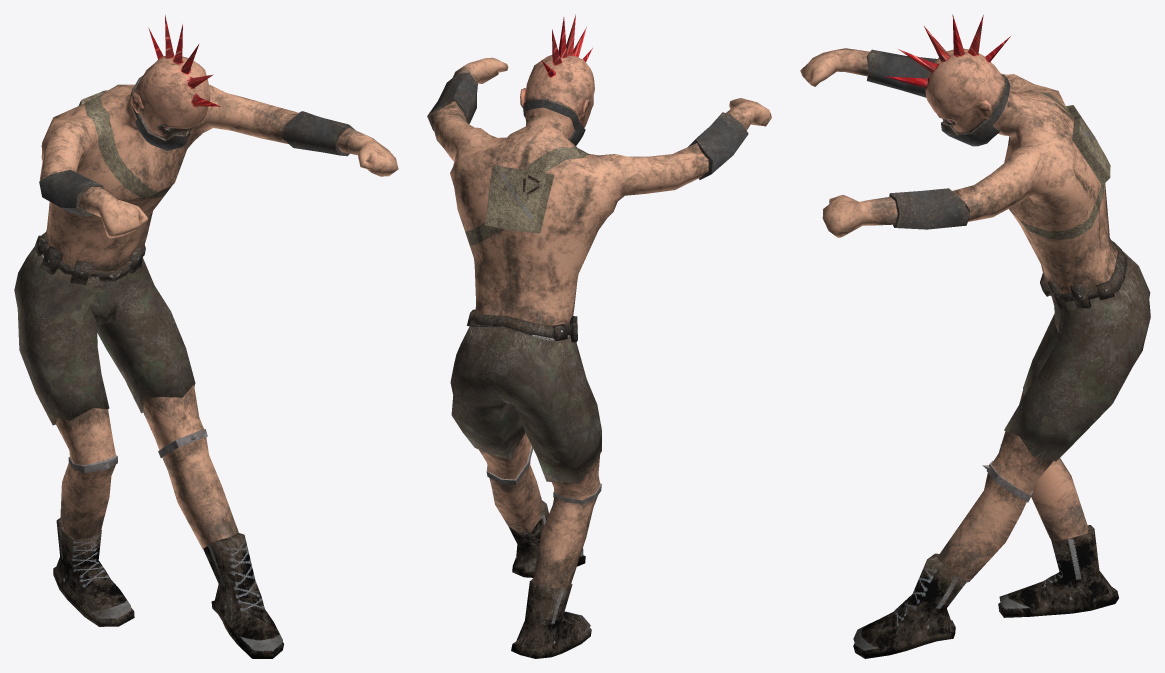
File: Anim_ataque_d3_npc2.0041.obj
3 views of the same model, side by side, from view 1: azimuth 30°, elevation 25°; view 2: azimuth 150°, elevation 25°; view 3: azimuth 270°, elevation 25° (orthographic). The views are drawn at different scales.
Visible parts, largest first — view 1: polySurface1; view 2: polySurface1; view 3: polySurface1.
Part boxes in pixels (x1=…): polySurface1: x1=14, y1=15, x2=398, y2=658; polySurface1: x1=427, y1=14, x2=771, y2=658; polySurface1: x1=800, y1=14, x2=1150, y2=658.
Bounding box in the file's own units: 4.86 × 9.26 × 4.76.
Materials: 2 (2 with a texture image).
